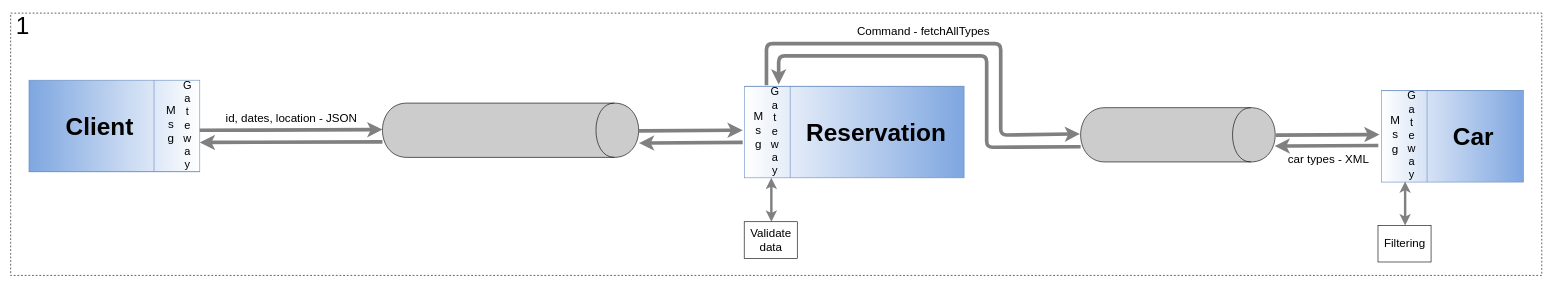
Some shapes in this 1552 by 286 pixel diagram are drawn without their labels. The shapes that lost their labels are listed below. From the top down, each one's box as (x1, y1, x2, y2) in pixels, then its label:
(382, 102, 639, 157): reservations_requests
(1080, 107, 1275, 162): cars_queue
